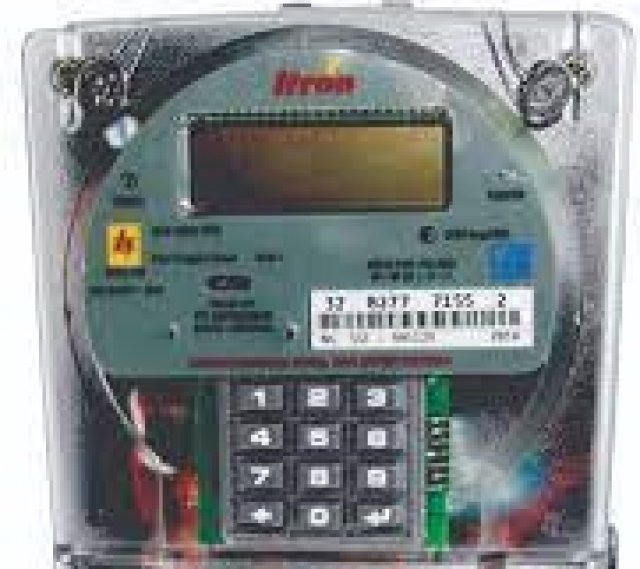box: (191, 121, 450, 211)
